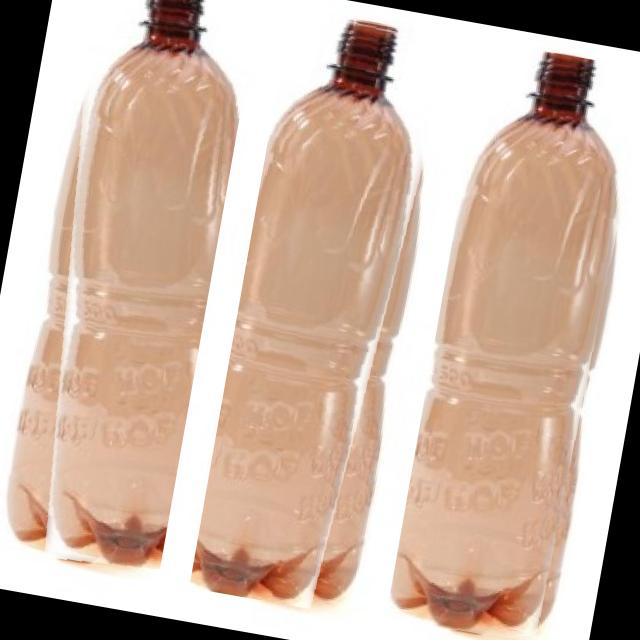plastic bottle: (188, 7, 454, 616), (385, 41, 640, 640), (0, 0, 260, 576)
